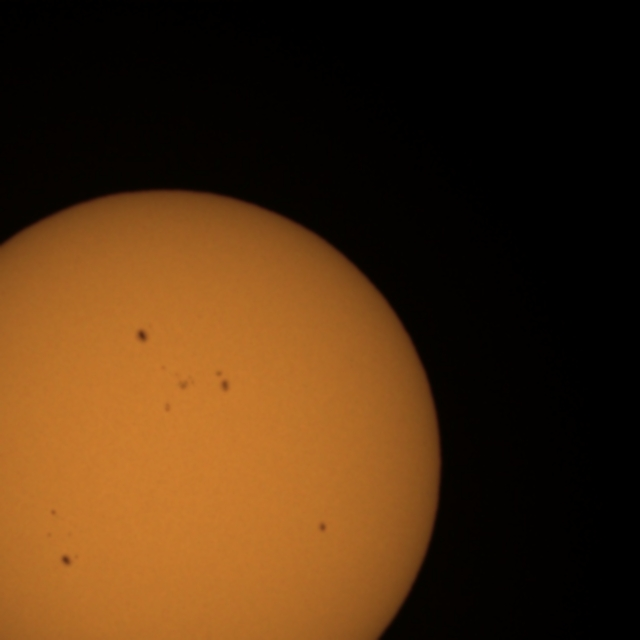sunspot: (172, 368, 238, 396), (161, 364, 197, 393), (213, 368, 232, 394), (59, 552, 81, 569), (134, 325, 151, 346), (316, 520, 328, 534), (162, 401, 172, 415), (49, 508, 58, 518), (45, 530, 53, 540)
